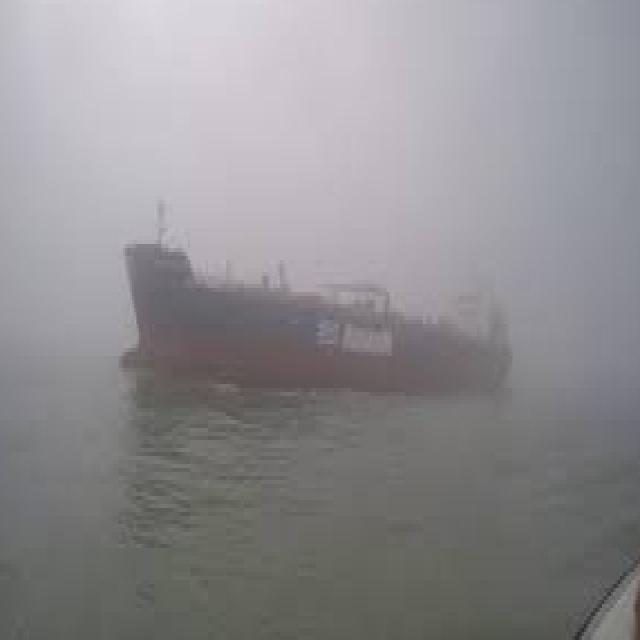cargoship: (120, 205, 518, 404)
